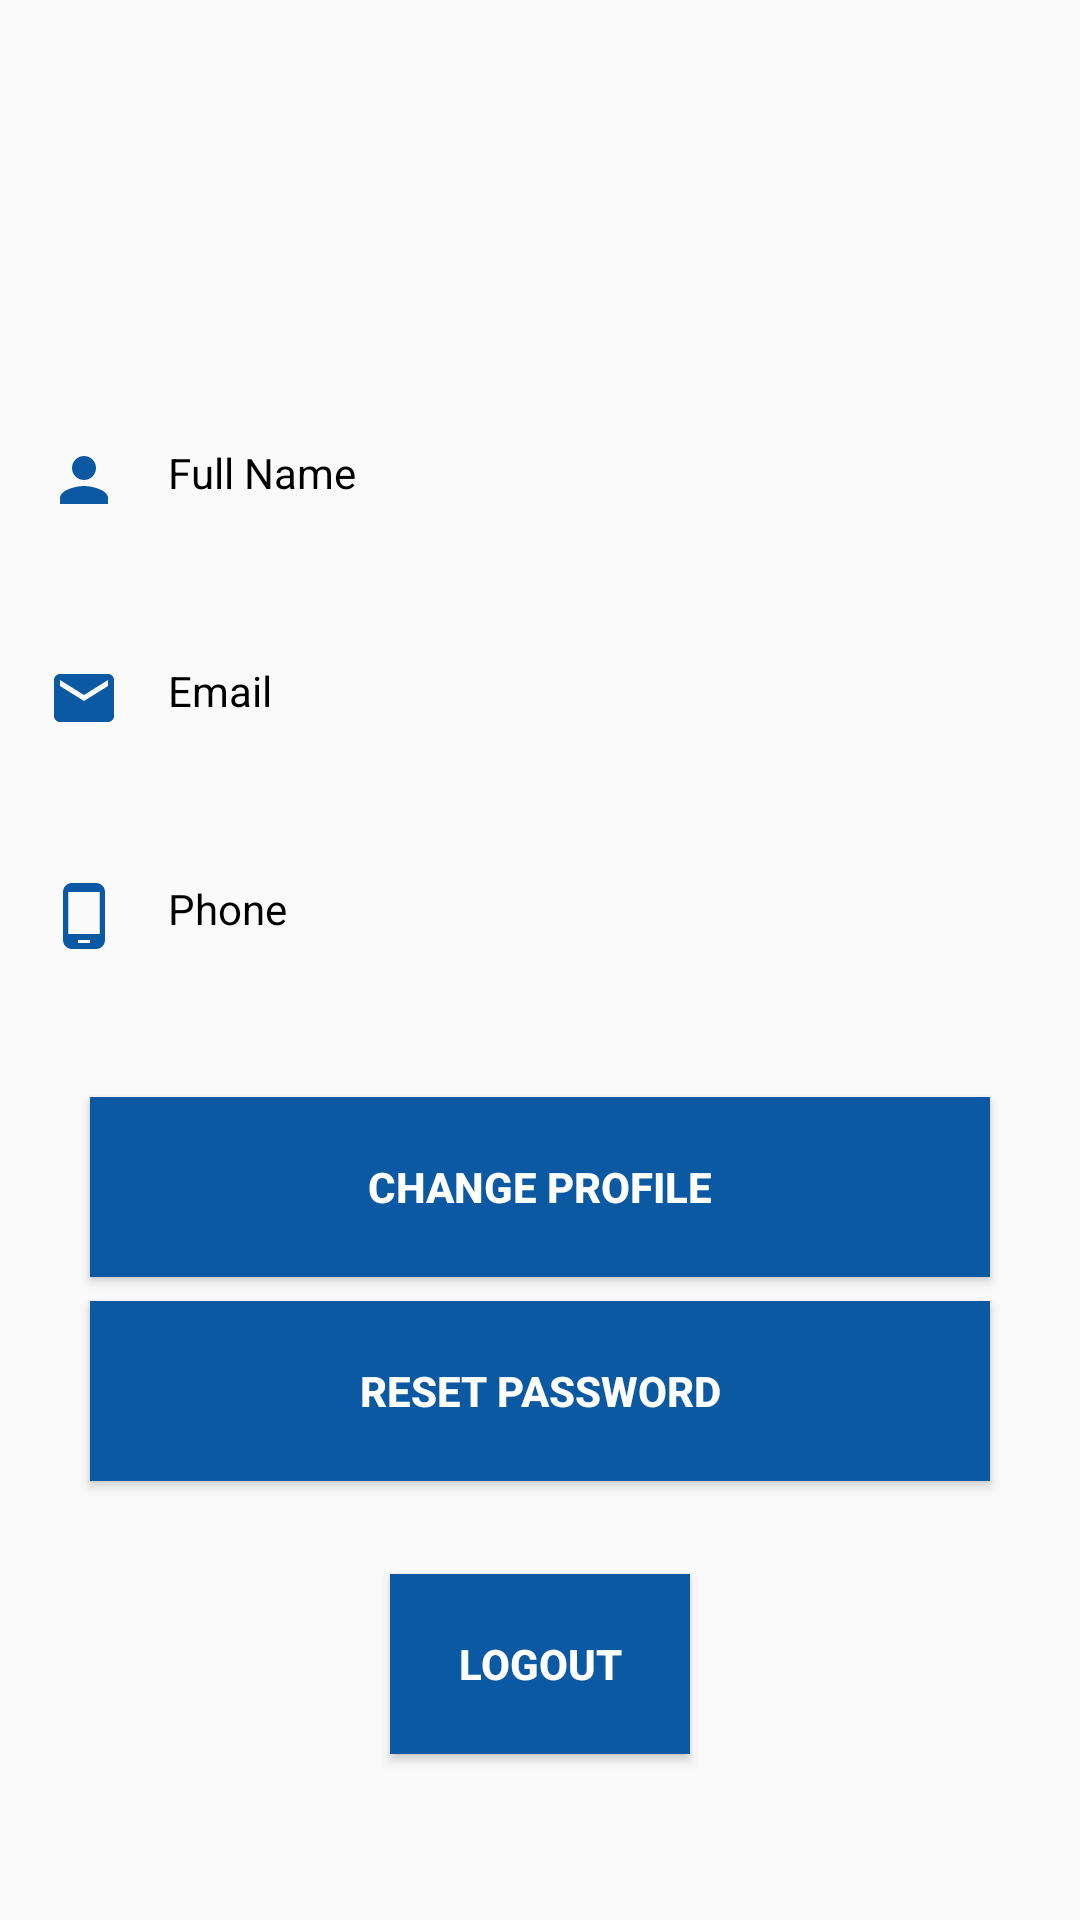

Point at icon controls on the screen. Image size 1080px×1920px, points as (x,y).
person: (84,480)
